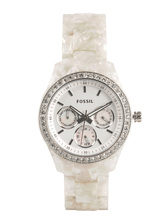watch: (33, 13, 146, 212)
